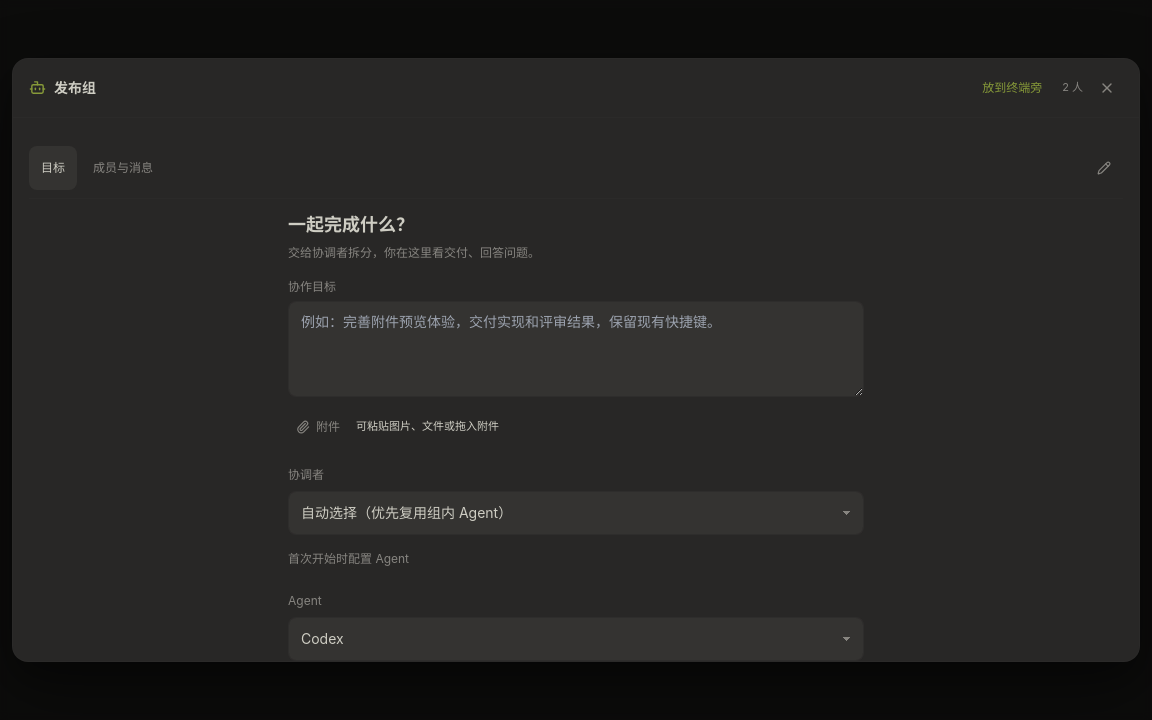
Test: AgentOperationsPanel › opens a requested collaboration group directly from its sidebar shortcut
Click the button "成员与消息".
click(123, 168)  # box [81, 146, 165, 190]
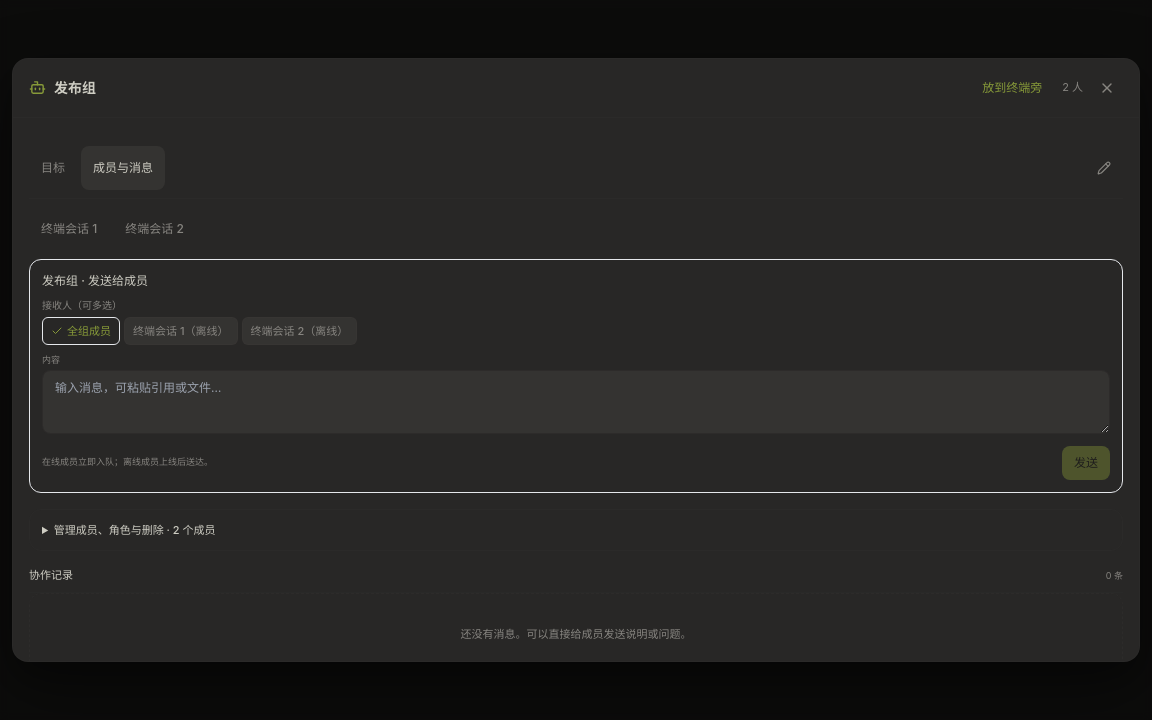
Expected: the heading "发布组" is shown, [54, 79, 96, 96]
Now the text box labelled "内容" is shown, box [42, 370, 1110, 434]
